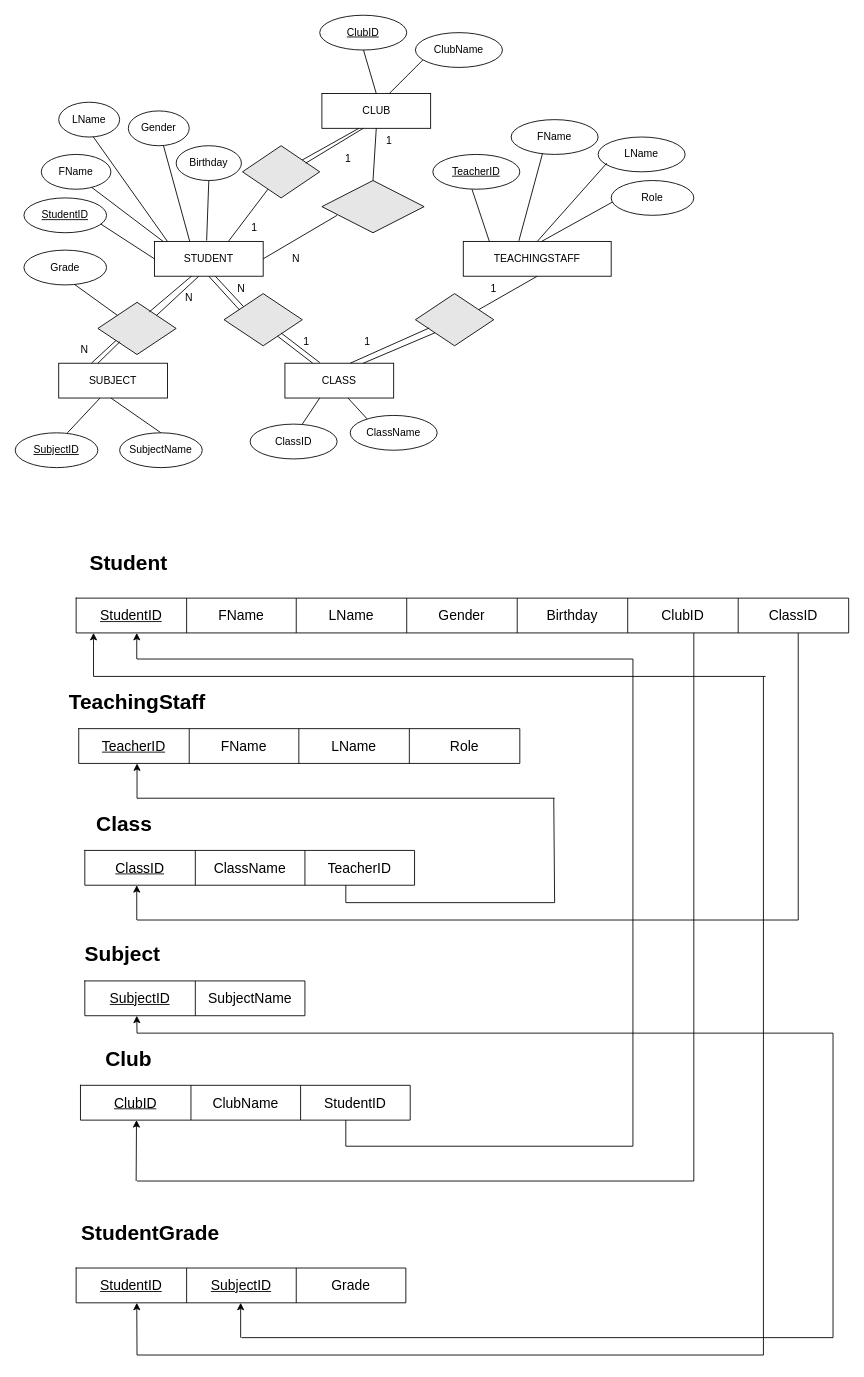
The diagram is 864 pixels wide and 1377 high, and some of its shapes have lost their labels. The centre of each missing label's shape, as x and y in pixels:
BELONGS: [262,319]
HAS: [136,328]
LEADS: [281,171]
PARTICIPATES: [372,206]
TEACHES: [454,319]
